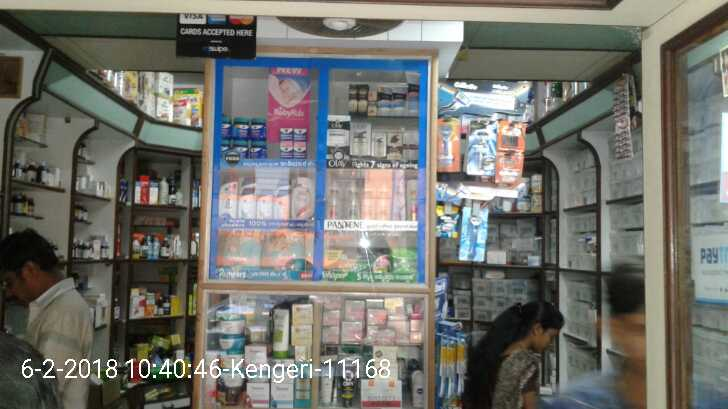beauty: (291, 173, 312, 220), (350, 121, 372, 158), (220, 176, 238, 220), (342, 180, 360, 222), (327, 177, 341, 221), (371, 129, 387, 160), (276, 189, 291, 221), (242, 187, 256, 221), (389, 131, 402, 160), (358, 82, 368, 116), (349, 82, 358, 115)
pharmacy: (326, 247, 390, 276), (261, 230, 304, 267), (392, 247, 416, 276), (231, 114, 250, 139), (249, 116, 266, 140), (249, 139, 268, 159), (293, 140, 306, 161), (281, 140, 293, 161), (293, 127, 307, 143), (280, 127, 293, 142)
